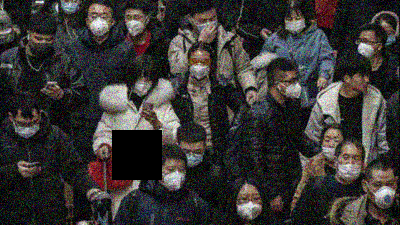mask_weared_incorrect: (321, 132, 344, 162)
with_mask: (365, 177, 396, 209), (335, 152, 364, 183), (157, 164, 187, 193), (235, 191, 262, 221), (86, 10, 114, 38), (12, 116, 42, 141), (187, 55, 212, 80), (191, 13, 218, 36), (28, 34, 55, 57), (278, 74, 301, 100), (132, 73, 154, 98), (123, 13, 147, 35), (355, 36, 377, 59), (181, 146, 204, 168), (283, 15, 307, 34), (381, 28, 398, 46), (59, 1, 80, 15)
without_mask: (349, 71, 370, 92)
